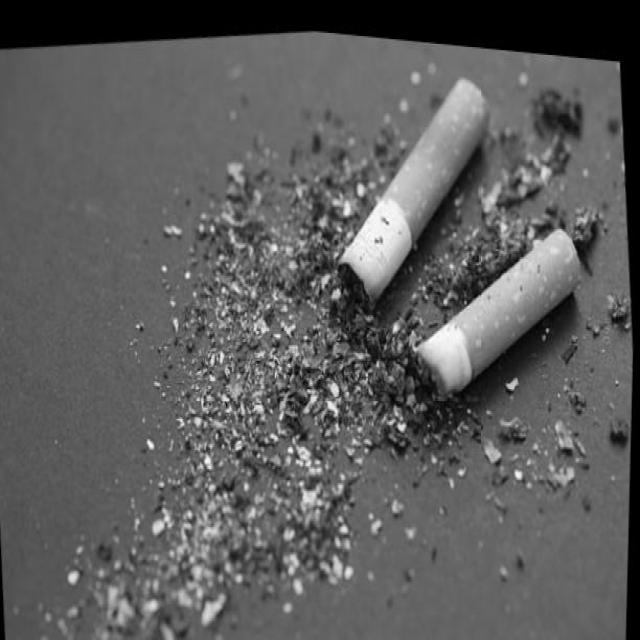cigarette: (319, 45, 511, 320), (402, 189, 602, 413)
